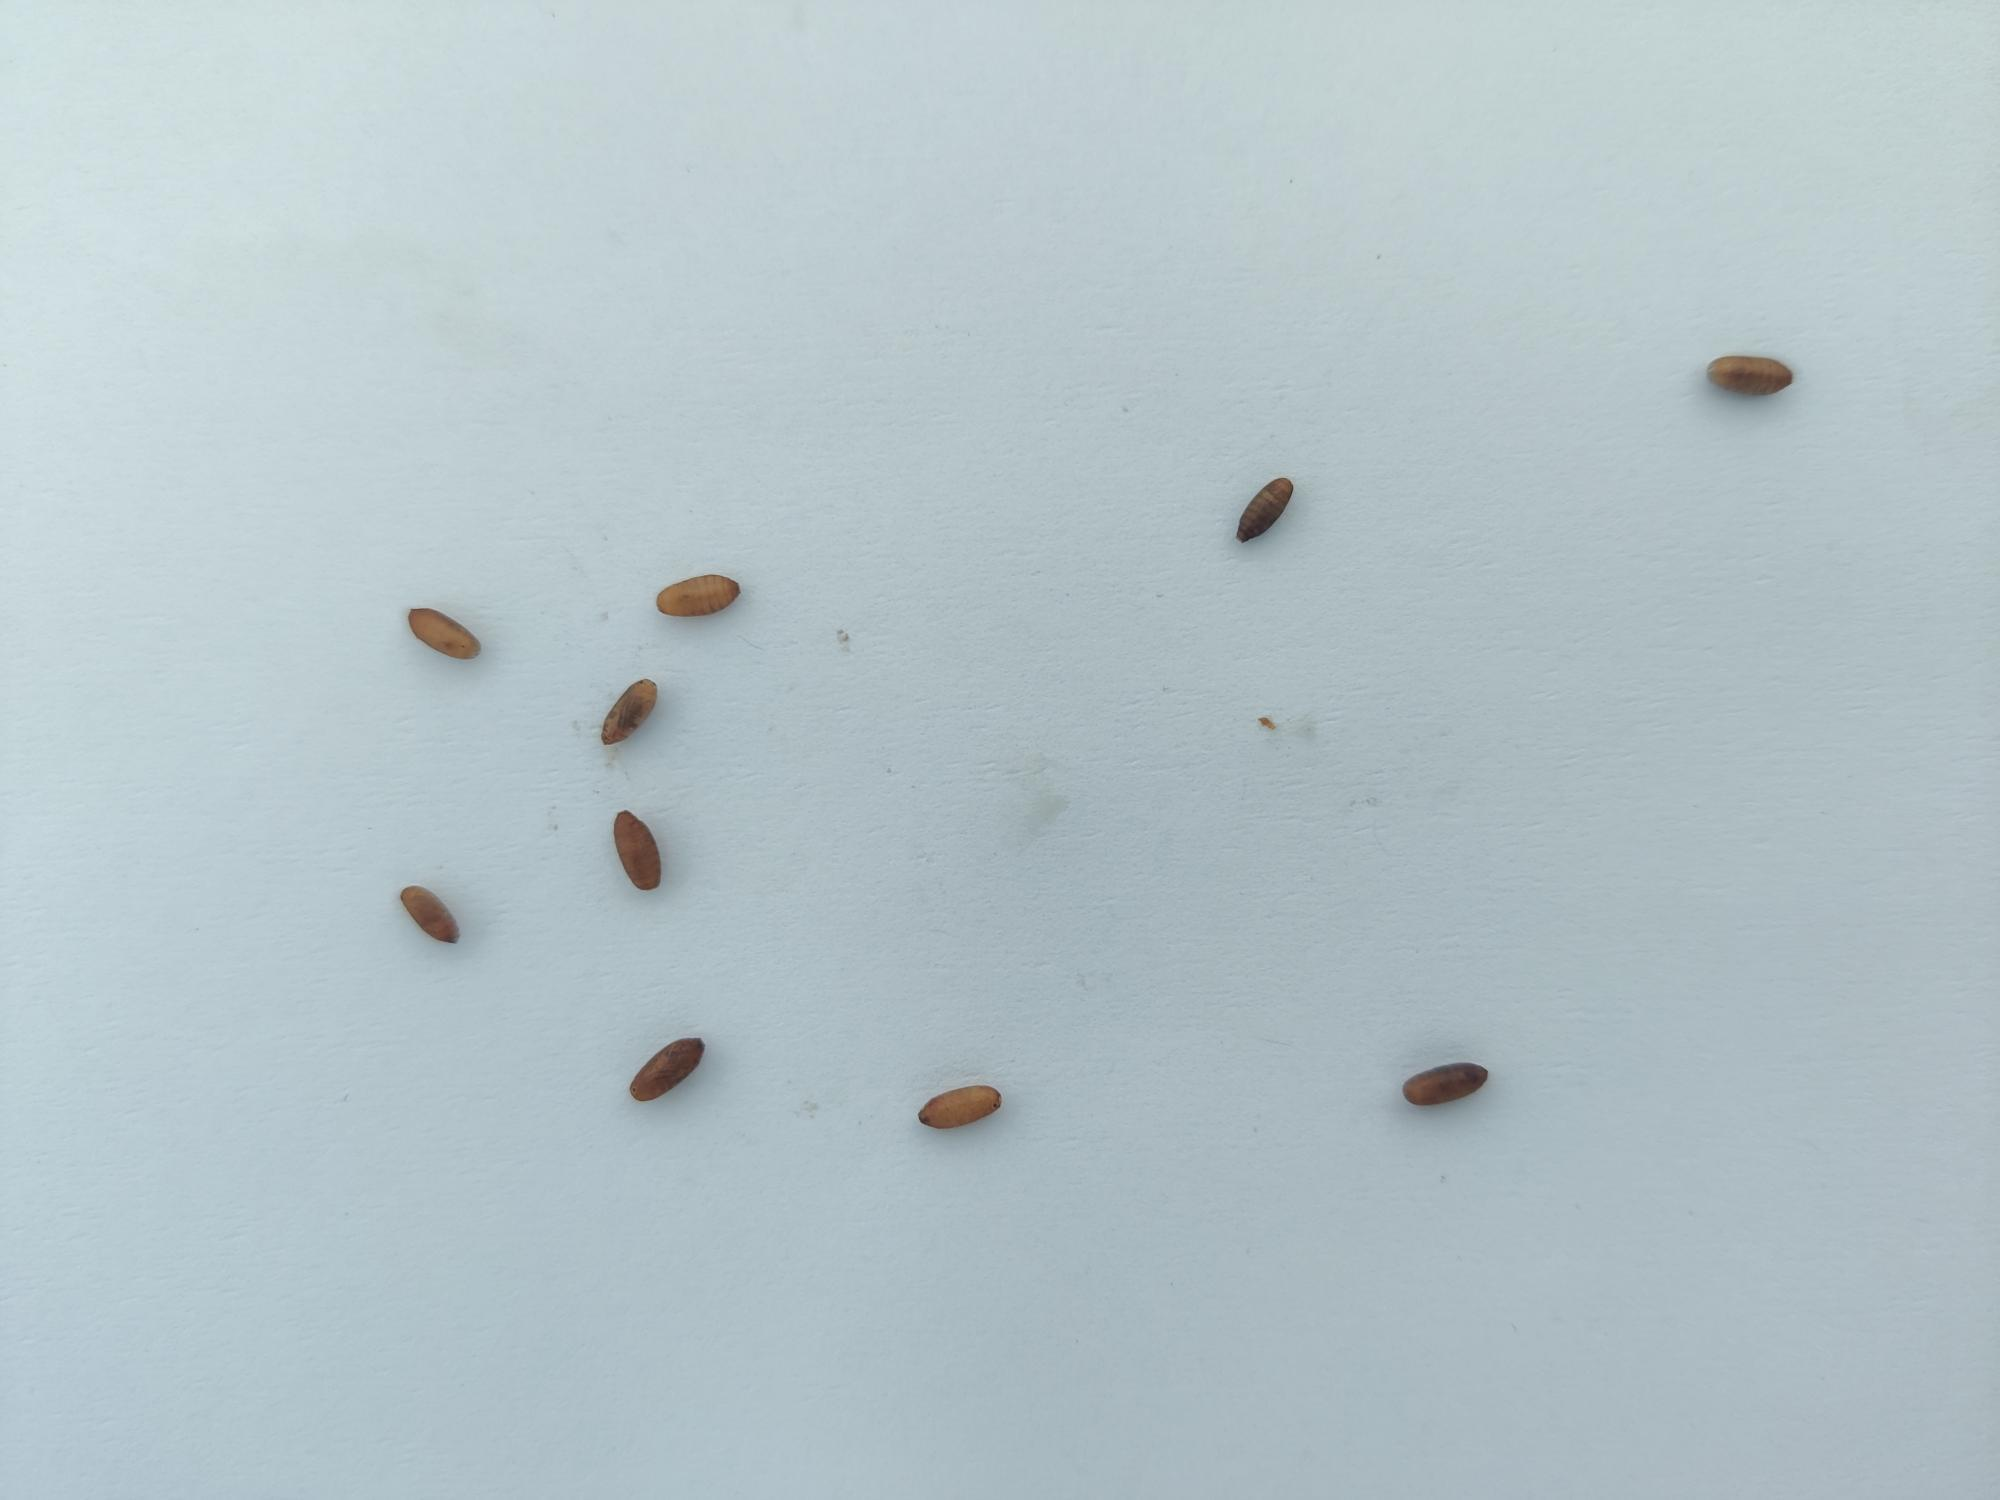pupae: (617, 1029, 723, 1112), (1227, 468, 1310, 561), (1391, 1045, 1498, 1114), (644, 562, 757, 626), (1685, 345, 1803, 405), (598, 804, 671, 898), (380, 874, 468, 950), (594, 670, 668, 759), (395, 599, 491, 666), (915, 1070, 1006, 1139)
